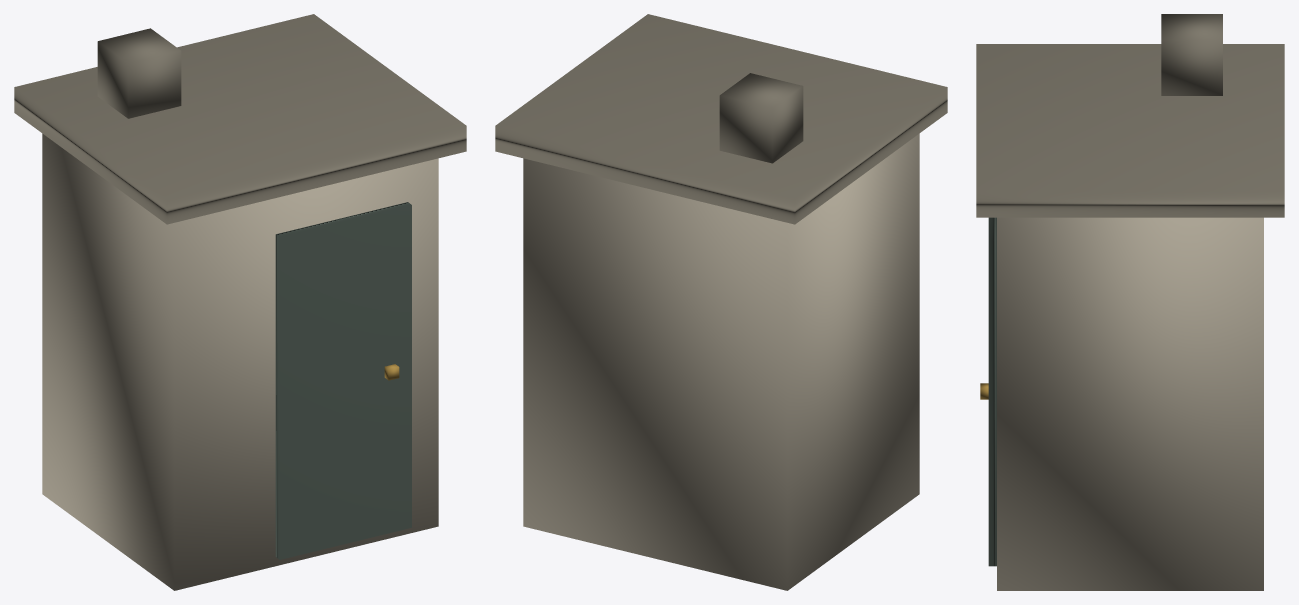
File: roof_access.glb
3 renders of one model, left to right at view 1: azimuth 30°, elevation 25°; view 2: azimuth 150°, elevation 25°; view 3: azimuth 270°, elevation 25°, orthographic.
Parts seen in each view (by area): view 1: roof_access; view 2: roof_access; view 3: roof_access.
Boxes of the visible parts, <box> form: roof_access: <box>14,14,466,590</box>; roof_access: <box>495,14,947,590</box>; roof_access: <box>976,14,1284,590</box>.
Size of the model in its own units: 1.7 by 2.49 by 1.5.
